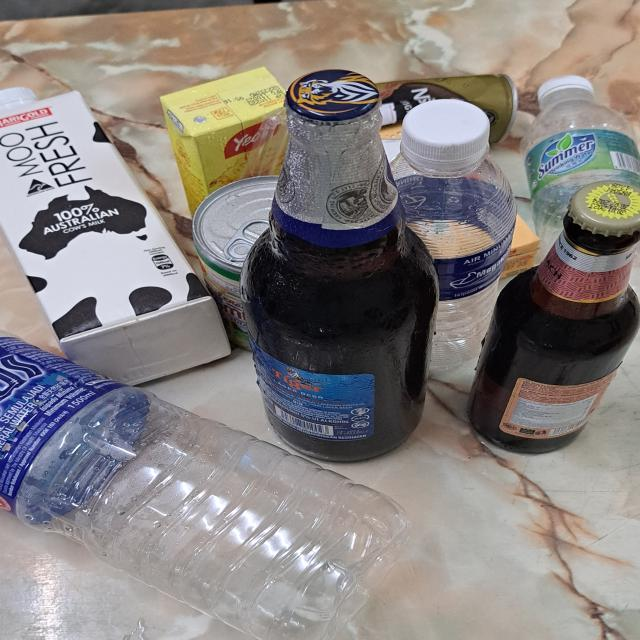can: (190, 173, 289, 354), (354, 72, 518, 142)
drink carton: (0, 90, 234, 393), (160, 68, 295, 214)
glass bottle: (245, 68, 439, 465), (463, 180, 640, 456)
plastic bottle: (0, 325, 412, 640), (390, 151, 517, 374), (525, 90, 640, 257)
plastic bottle cap: (398, 98, 494, 169), (535, 75, 594, 102), (0, 86, 39, 110)
pop tab: (225, 220, 274, 260)
